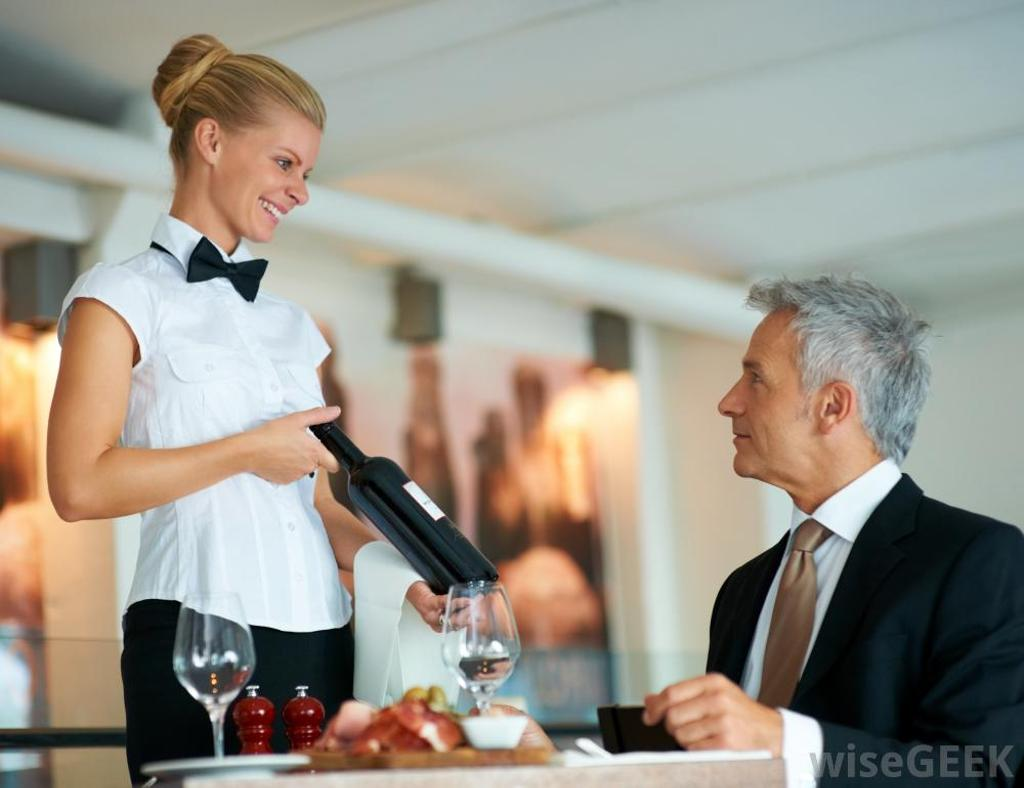face: (220, 72, 322, 238), (730, 304, 828, 474)
